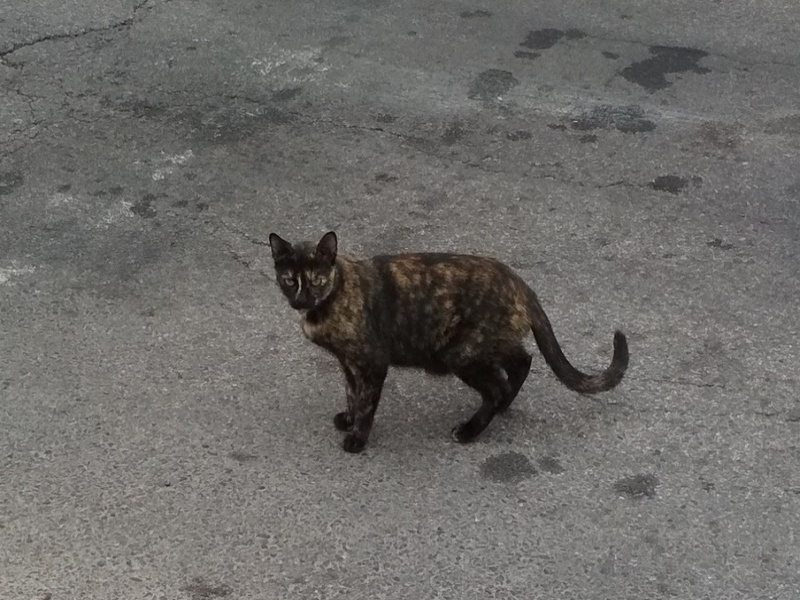cat: (264, 230, 632, 454)
